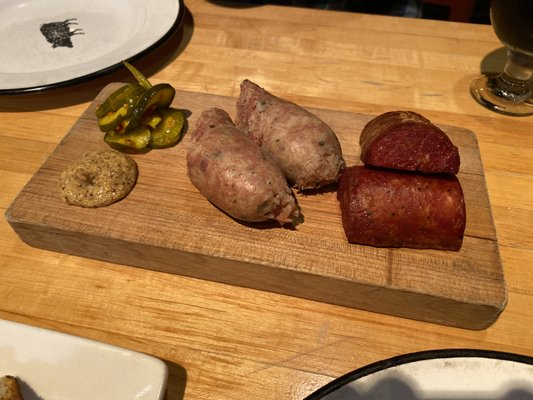curry: (1, 0, 525, 400)
sandwich: (469, 0, 533, 114)
